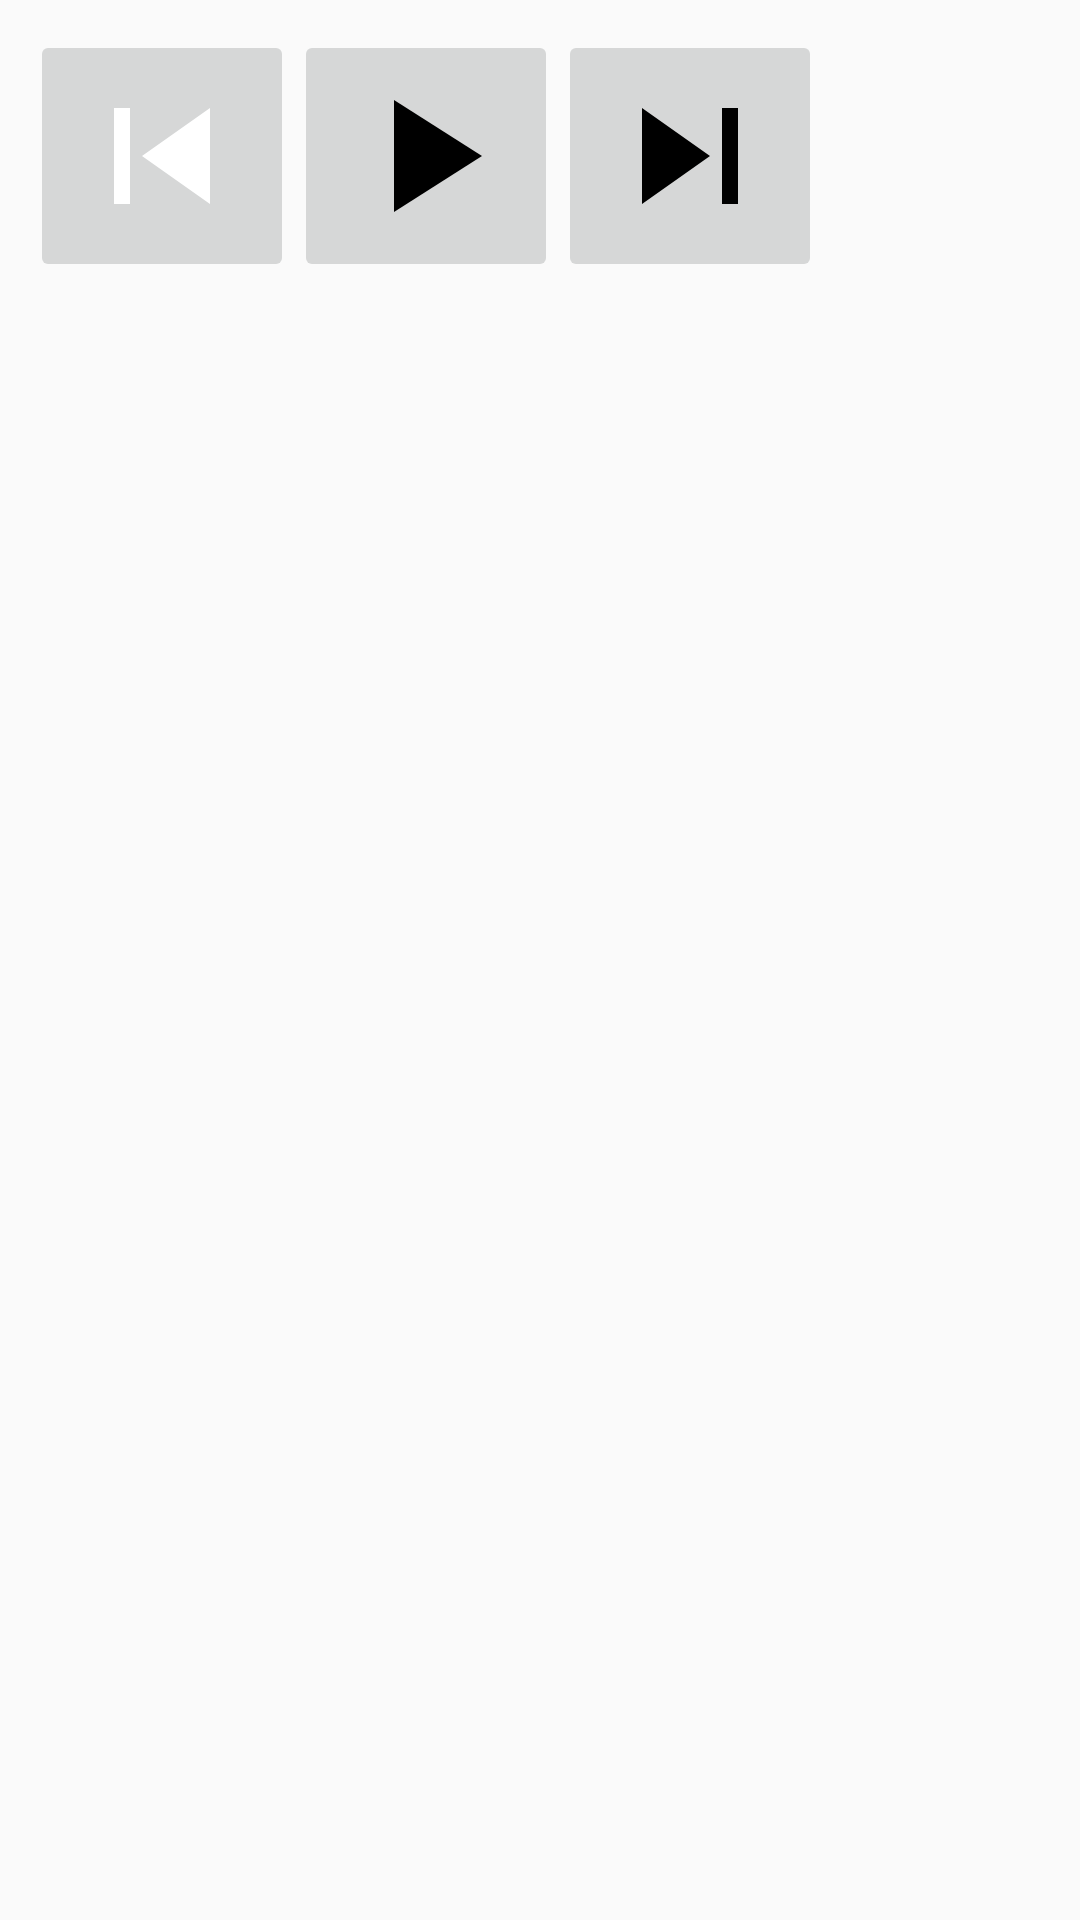

Named icons in this screenshot (1080x1920) and their centers, point (x, y):
skip next: point (690, 156)
skip previous: point (162, 156)
